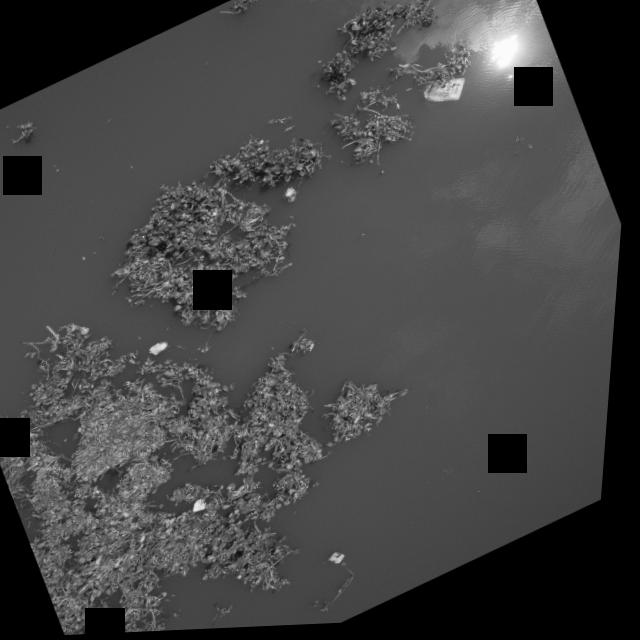plastic: (412, 61, 489, 123), (278, 182, 309, 215), (330, 546, 362, 575), (149, 334, 179, 363), (193, 495, 223, 520), (81, 348, 98, 370), (311, 340, 326, 355), (158, 601, 169, 611), (84, 336, 92, 345)
